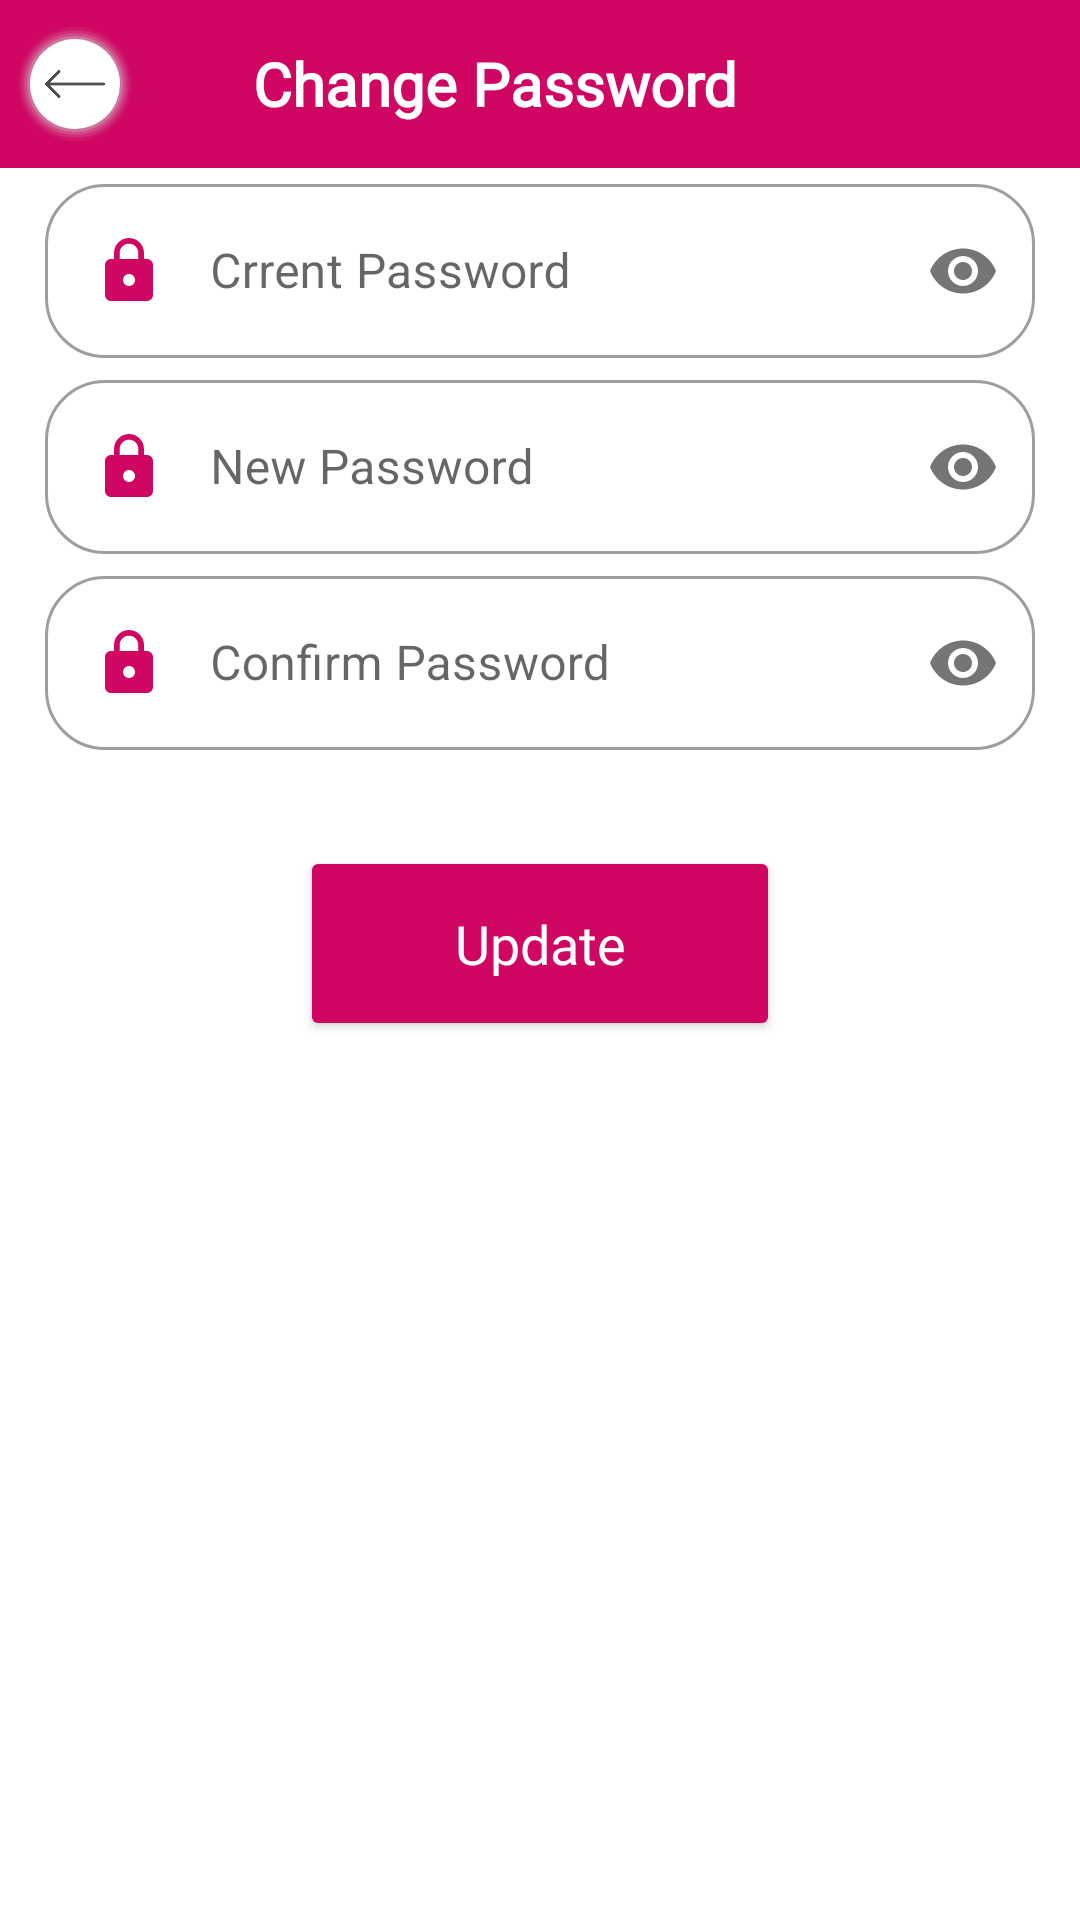

Screen size 1080 x 1920. Icon name, then its box in pixels as box=[x1, y1, x2, y2]:
back arow: box=[21, 30, 129, 138]
